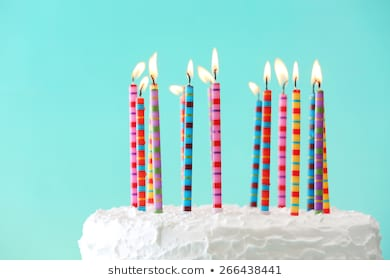Fire: (147, 50, 161, 80), (274, 56, 288, 86), (130, 59, 145, 80), (312, 57, 324, 83), (260, 59, 272, 83), (291, 57, 301, 84), (184, 59, 195, 83), (211, 48, 221, 71), (139, 77, 148, 91)
